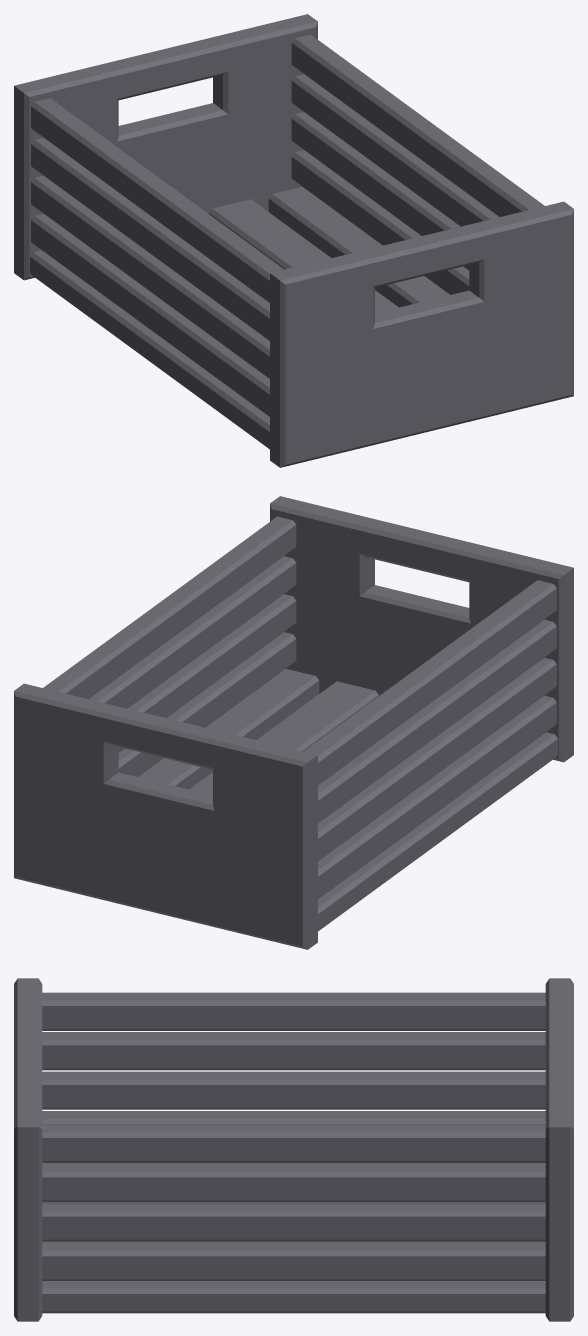
File: cratebox_b.gltf
3 views of the same model, one above another, from view 1: azimuth 30°, elevation 25°; view 2: azimuth 150°, elevation 25°; view 3: azimuth 270°, elevation 25° (orthographic). The views are drawn at different scales.
Parts seen in each view (by area): view 1: cratebox_b001; view 2: cratebox_b001; view 3: cratebox_b001.
Boxes of the visible parts, x1,y1,x2,y2 form: cratebox_b001: (14, 14, 573, 467); cratebox_b001: (14, 496, 573, 949); cratebox_b001: (14, 978, 573, 1321).
Size of the model in its own units: 0.512 by 0.312 by 0.8141.
Materials: 1 (1 with a texture image).
